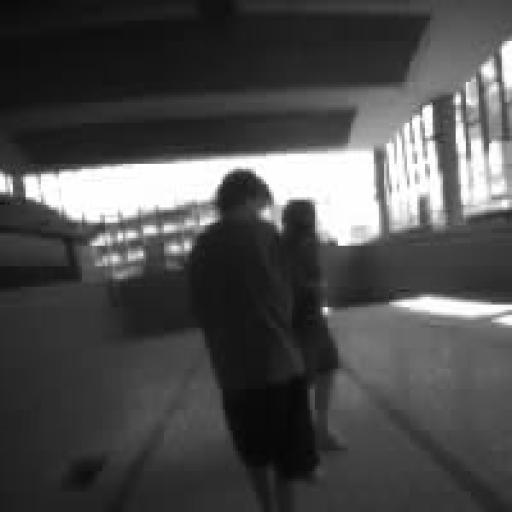human: (187, 169, 319, 511), (282, 200, 345, 450)
